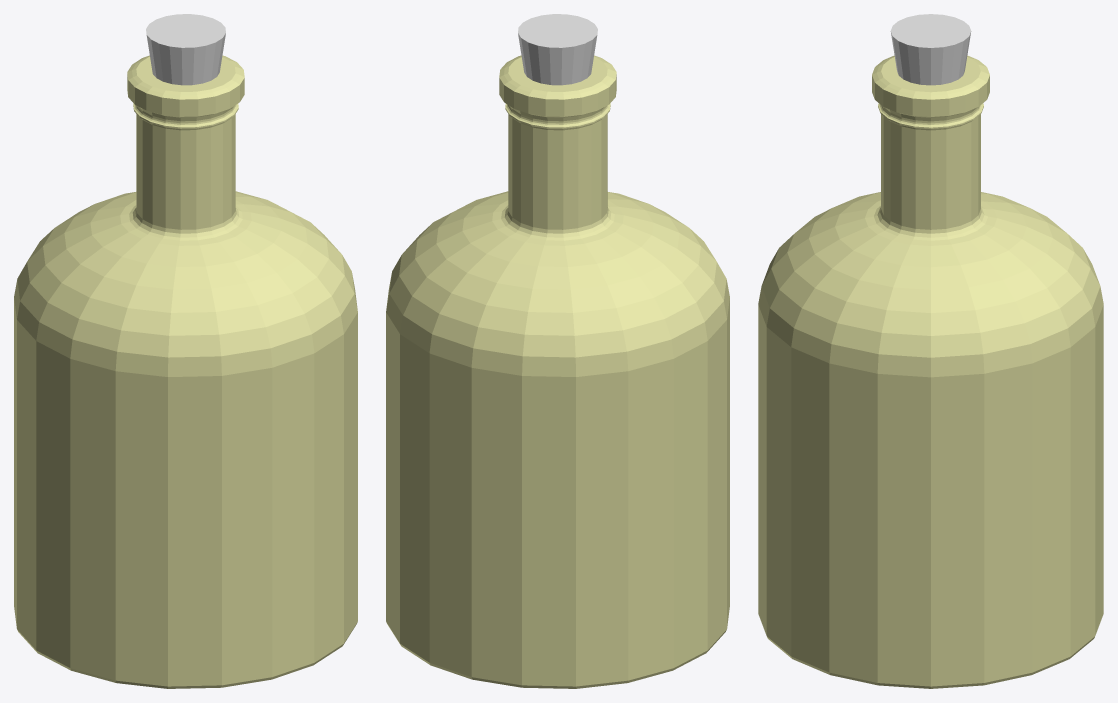
File: BottledHurricane.fbx
The picture shows the model from 3 angles, left to right: view 1: azimuth 30°, elevation 25°; view 2: azimuth 150°, elevation 25°; view 3: azimuth 270°, elevation 25°; orthographic projection.
Parts seen in each view (by area): view 1: Cylinder, Cylinder.001; view 2: Cylinder, Cylinder.001; view 3: Cylinder, Cylinder.001.
Part boxes in pixels (x1=…): Cylinder: x1=14, y1=55, x2=357, y2=688; Cylinder.001: x1=146, y1=14, x2=225, y2=85; Cylinder: x1=386, y1=55, x2=729, y2=688; Cylinder.001: x1=518, y1=14, x2=597, y2=85; Cylinder: x1=758, y1=55, x2=1103, y2=688; Cylinder.001: x1=890, y1=14, x2=971, y2=85.
Bounding box in the file's own units: 53.07 × 99.42 × 53.07.
